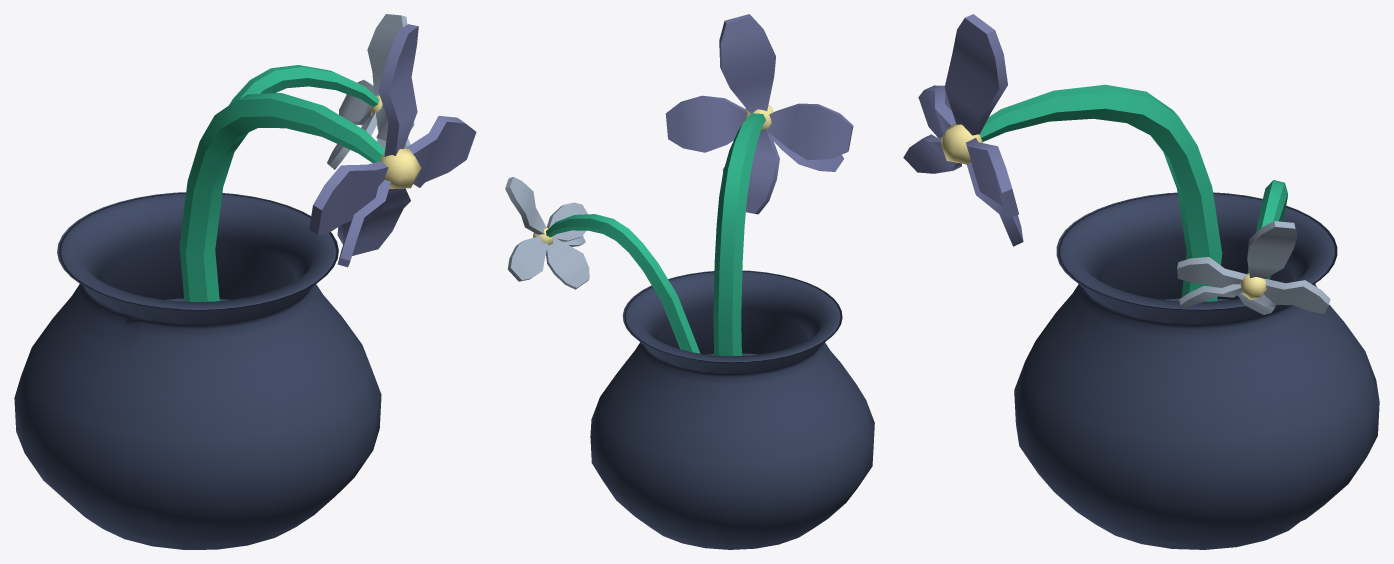
The model's file is tv flower.fbx.
3 views of the same model, side by side, from view 1: azimuth 30°, elevation 25°; view 2: azimuth 150°, elevation 25°; view 3: azimuth 270°, elevation 25° (orthographic). The views are drawn at different scales.
Parts seen in each view (by area): view 1: polySurface22, polySurface8; view 2: polySurface22, polySurface8; view 3: polySurface22, polySurface8.
Part boxes in pixels (x1=…): polySurface22: x1=14, y1=192, x2=381, y2=549; polySurface8: x1=179, y1=14, x2=476, y2=301; polySurface22: x1=590, y1=270, x2=874, y2=549; polySurface8: x1=505, y1=14, x2=853, y2=356; polySurface22: x1=1014, y1=192, x2=1379, y2=549; polySurface8: x1=903, y1=14, x2=1330, y2=314.
Size of the model in its own units: 0.0651 by 0.0812 by 0.0661.
